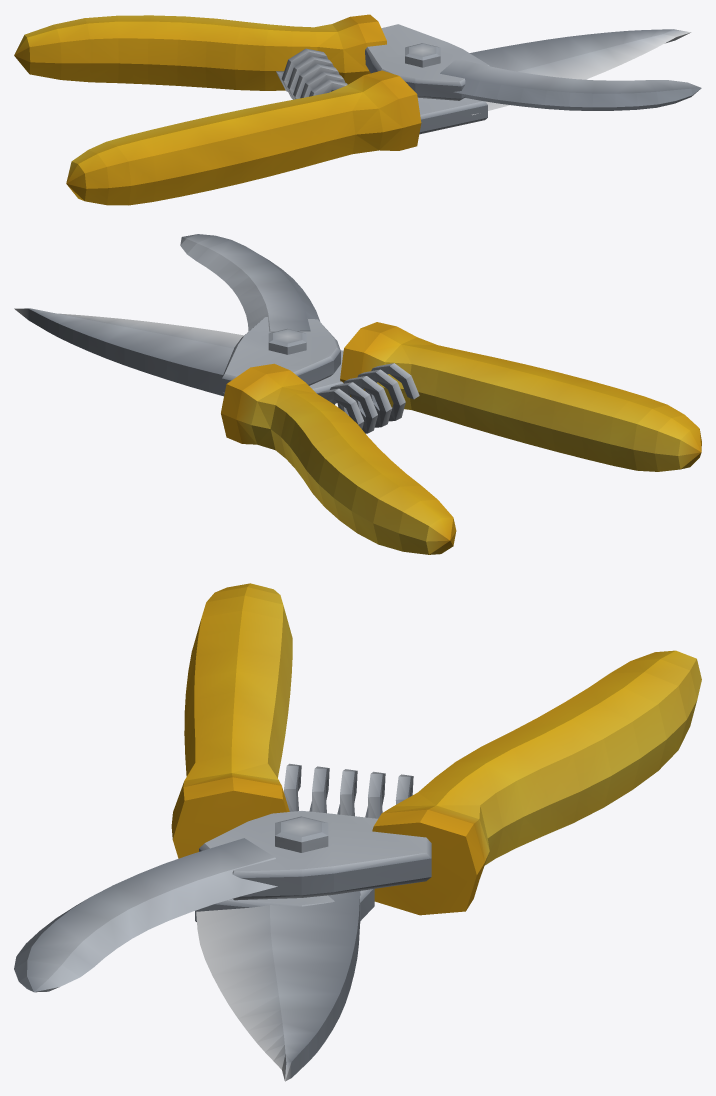
The model's file is CornClippers.fbx.
3 views of the same model, one above another, from view 1: azimuth 30°, elevation 25°; view 2: azimuth 150°, elevation 25°; view 3: azimuth 270°, elevation 25° (orthographic). The views are drawn at different scales.
Visible parts, largest first — view 1: ClippersHandle, ClippersJawGrip, ClippersJaw, ClippersBlade, ClippersSpring; view 2: ClippersHandle, ClippersJawGrip, ClippersJaw, ClippersBlade, ClippersSpring; view 3: ClippersJawGrip, ClippersJaw, ClippersHandle, ClippersBlade, ClippersSpring.
Part boxes in pixels (x1,y1,x2,y2): ClippersHandle: [66, 70, 421, 205]; ClippersJawGrip: [14, 14, 386, 90]; ClippersJaw: [365, 24, 701, 110]; ClippersBlade: [405, 29, 690, 134]; ClippersSpring: [276, 48, 347, 99]; ClippersHandle: [340, 322, 701, 471]; ClippersJawGrip: [221, 363, 456, 554]; ClippersJaw: [180, 234, 340, 393]; ClippersBlade: [14, 308, 343, 403]; ClippersSpring: [317, 363, 419, 433]; ClippersJawGrip: [372, 650, 701, 915]; ClippersJaw: [14, 811, 431, 992]; ClippersHandle: [171, 583, 292, 858]; ClippersBlade: [195, 816, 374, 1081]; ClippersSpring: [284, 763, 413, 818].
Size of the model in its own units: 278 by 27 by 175.
